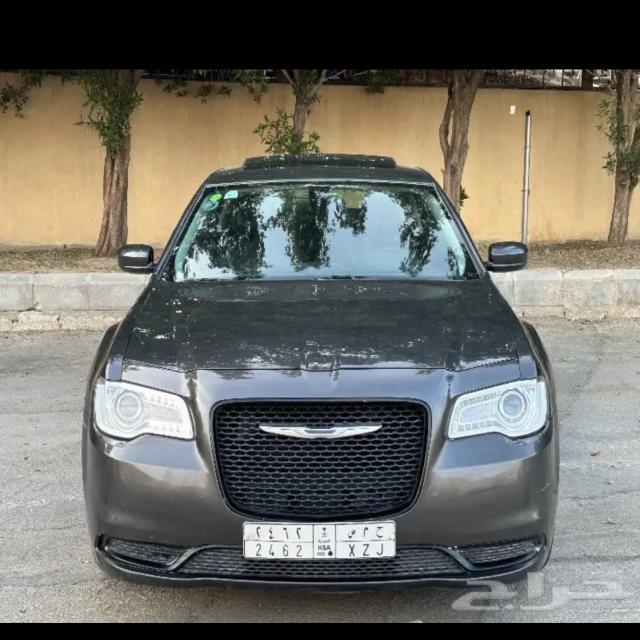license_plate: (240, 520, 397, 557)
